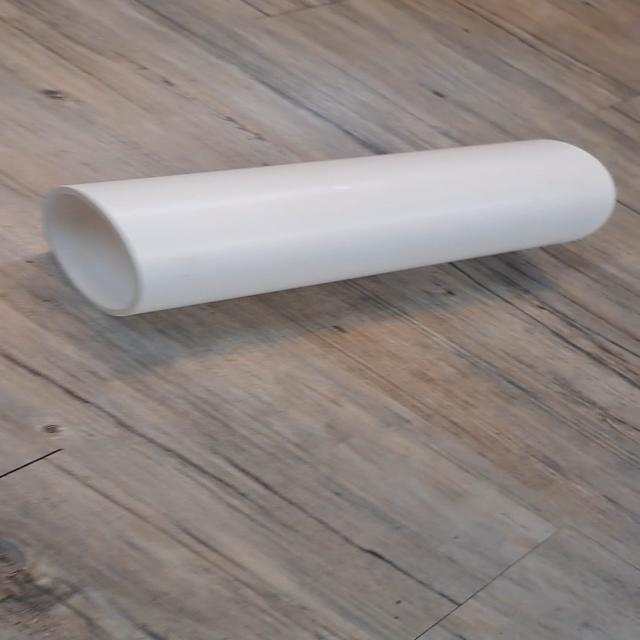CORAL: (36, 129, 623, 322)
